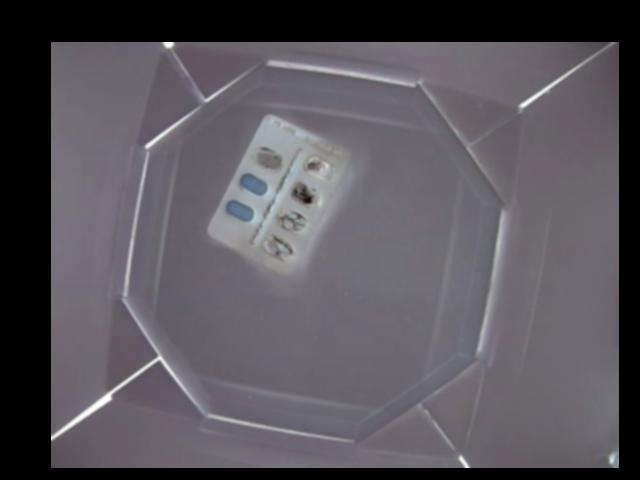Medicine: (208, 111, 351, 268)
